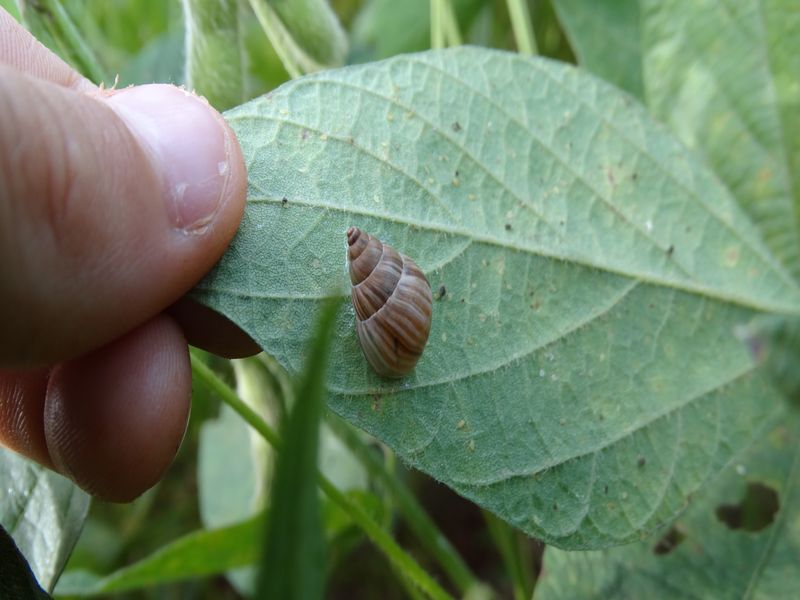Gastropoda: (313, 216, 465, 394)
